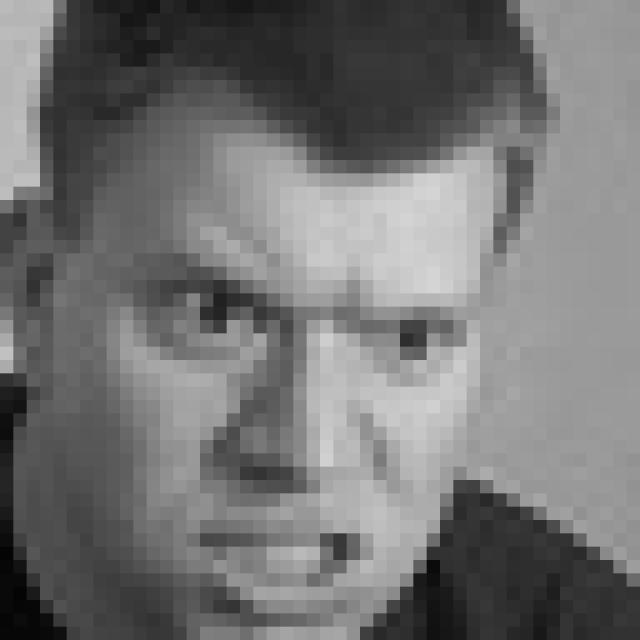angry: (132, 249, 470, 622)
